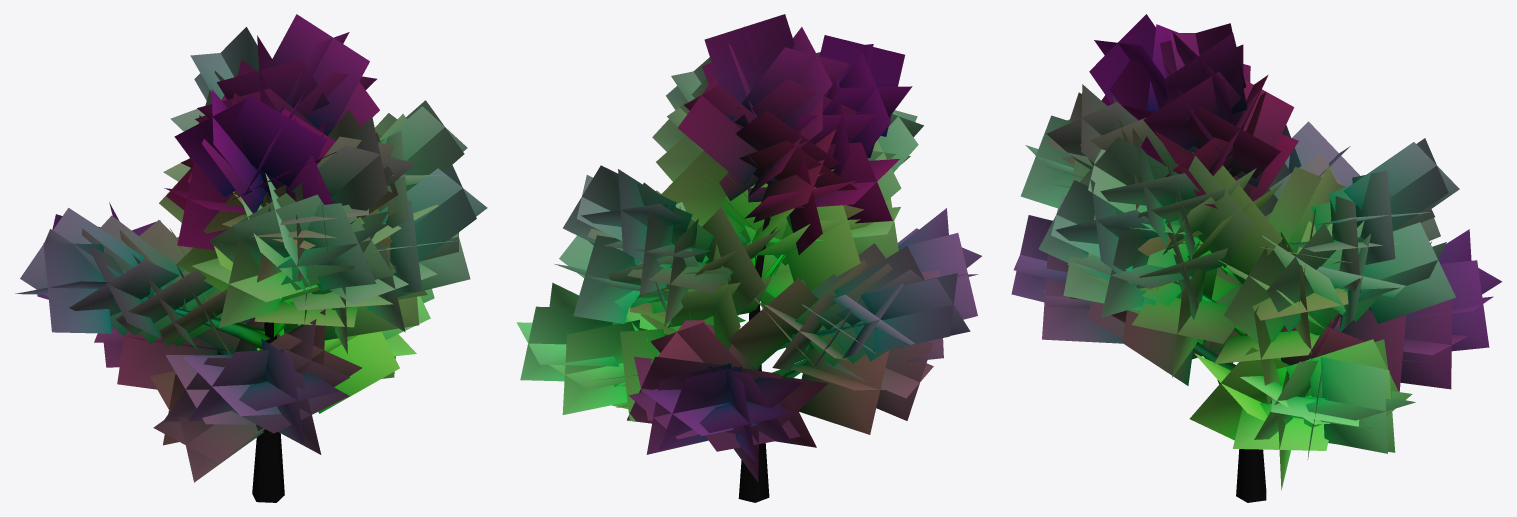
The model's file is URP_P11_Tree_3_LOD_3.fbx.
3 views of the same model, side by side, from view 1: azimuth 30°, elevation 25°; view 2: azimuth 150°, elevation 25°; view 3: azimuth 270°, elevation 25° (orthographic). The views are drawn at different scales.
Parts seen in each view (by area): view 1: Tree_3_LOD_3; view 2: Tree_3_LOD_3; view 3: Tree_3_LOD_3.
Part boxes in pixels (bbox=[...]): Tree_3_LOD_3: bbox=[15, 14, 487, 502]; Tree_3_LOD_3: bbox=[516, 14, 981, 502]; Tree_3_LOD_3: bbox=[1011, 14, 1502, 502].
Bounding box in the file's own units: 562 × 605 × 570.
